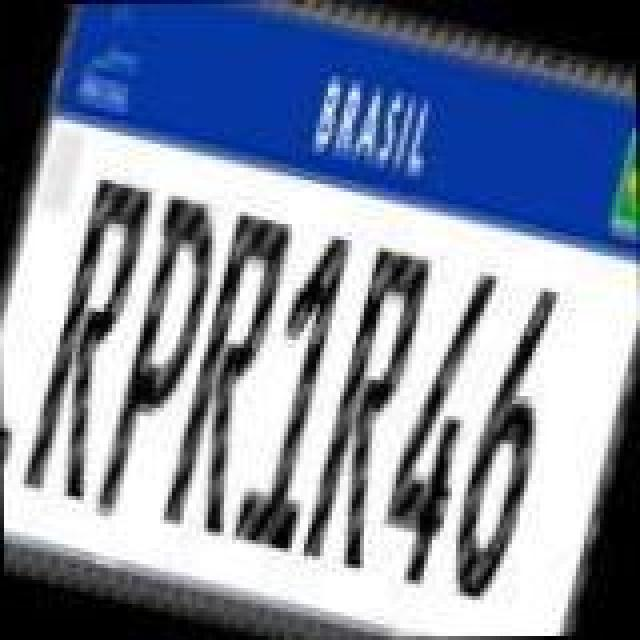1: (222, 222, 374, 562)
4: (360, 252, 508, 592)
6: (430, 272, 582, 608)
P: (82, 184, 238, 532)
R: (12, 166, 164, 506), (294, 238, 446, 578), (154, 206, 302, 542)
